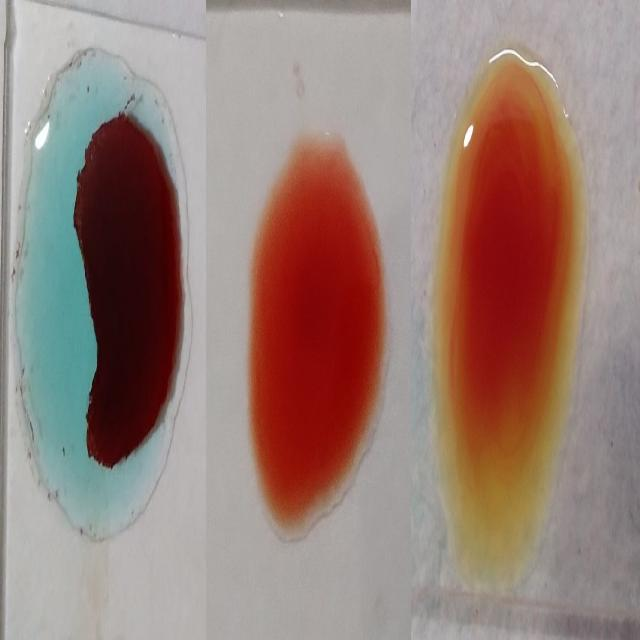A: (25, 52, 186, 548)
